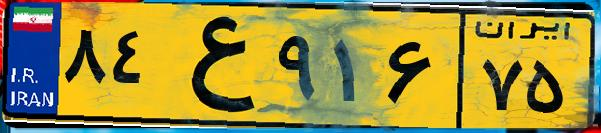1: (330, 28, 385, 110)
4: (110, 28, 158, 98)
5: (525, 38, 570, 115)
6: (385, 28, 445, 110)
7: (475, 38, 525, 113)
8: (57, 26, 110, 100)
9: (270, 28, 330, 110)
ع: (158, 12, 270, 120)
